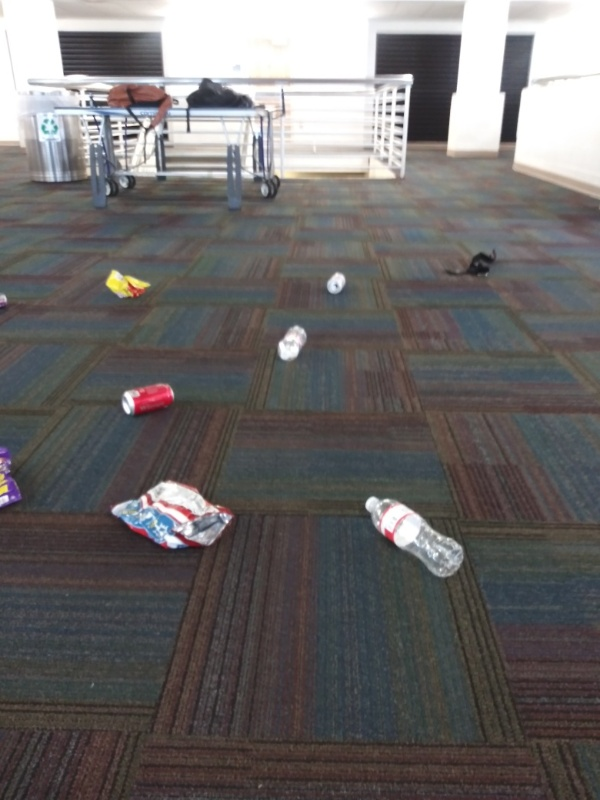bag: (107, 474, 238, 559), (102, 266, 158, 304), (1, 439, 21, 514)
bottle: (360, 491, 468, 582), (275, 321, 311, 366)
can: (116, 380, 181, 422), (324, 270, 350, 299)
